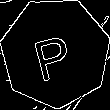P_N: (31, 24, 80, 82)
